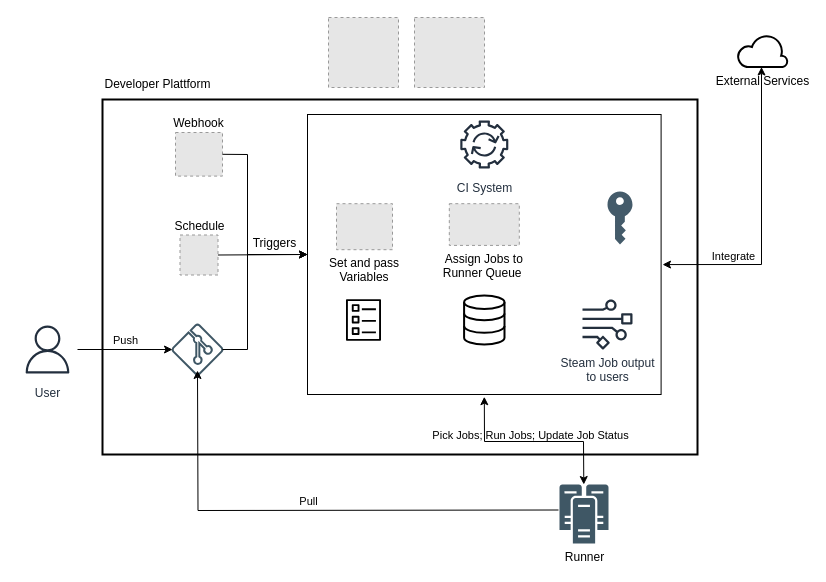
This 826x582 diagram has some shape labels left out. Grey dashed boxes stand in for pictures. The shapes that lost their labels are listed below. From the top down, each one's centre as x and y in pixels, then its label:
the point at 619,217: Permission Evaluation
the point at 363,319: Evaluate CI Trigger & Job Definition
the point at 484,319: Cache Artefacts
the point at 197,349: Code Repository
